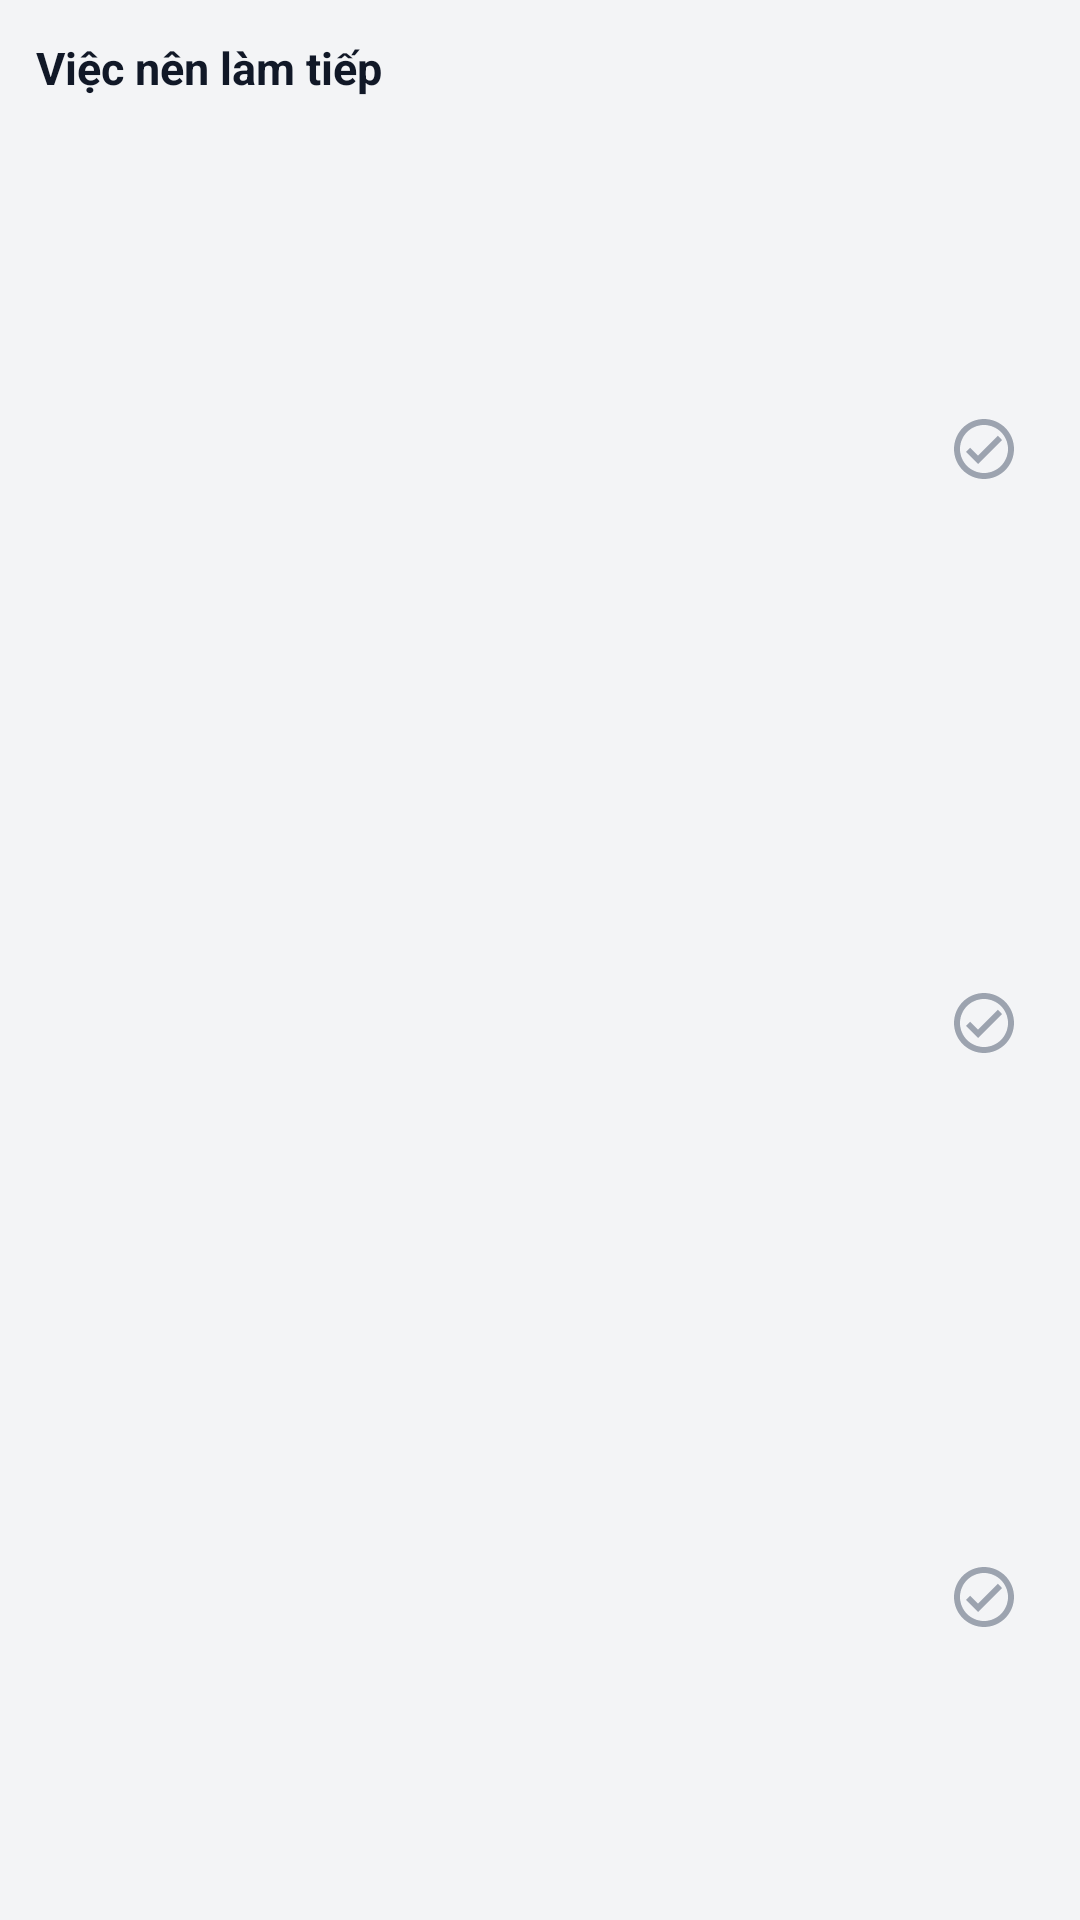

Where icons sit on this 1080 × 1920 app screen, as {"left": x1, "top": y1, "right": x2, "bottom": y2}:
Đánh dấu hoàn thành: {"left": 954, "top": 419, "right": 1014, "bottom": 479}, {"left": 954, "top": 993, "right": 1014, "bottom": 1053}, {"left": 954, "top": 1567, "right": 1014, "bottom": 1627}
